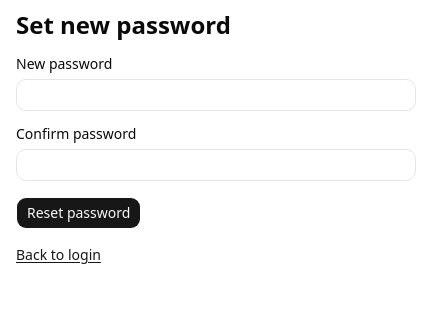
Test: ResetPassword › shows error when passwords do not match
Type "password123" into the password field labelled "New password".
click(216, 95); type("password123")  # box top-left (16, 79), bottom-right (416, 111)
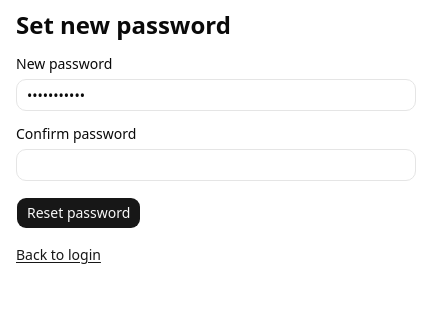
Type "different" into the password field with id "confirm".
click(216, 165); type("different")  # box top-left (16, 149), bottom-right (416, 181)
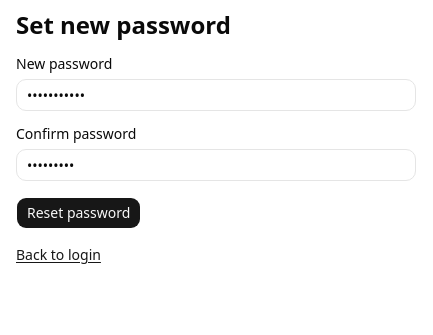
Click the button "Reset password".
click(79, 213)  # box top-left (16, 197), bottom-right (141, 229)
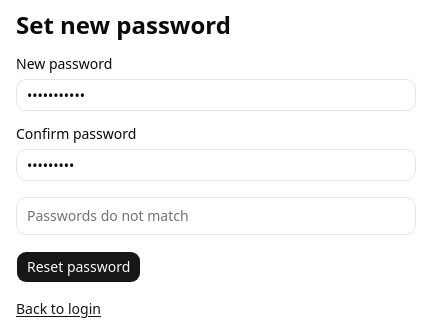
expect the message shows "do not match": met, box top-left (27, 206), bottom-right (189, 225)
